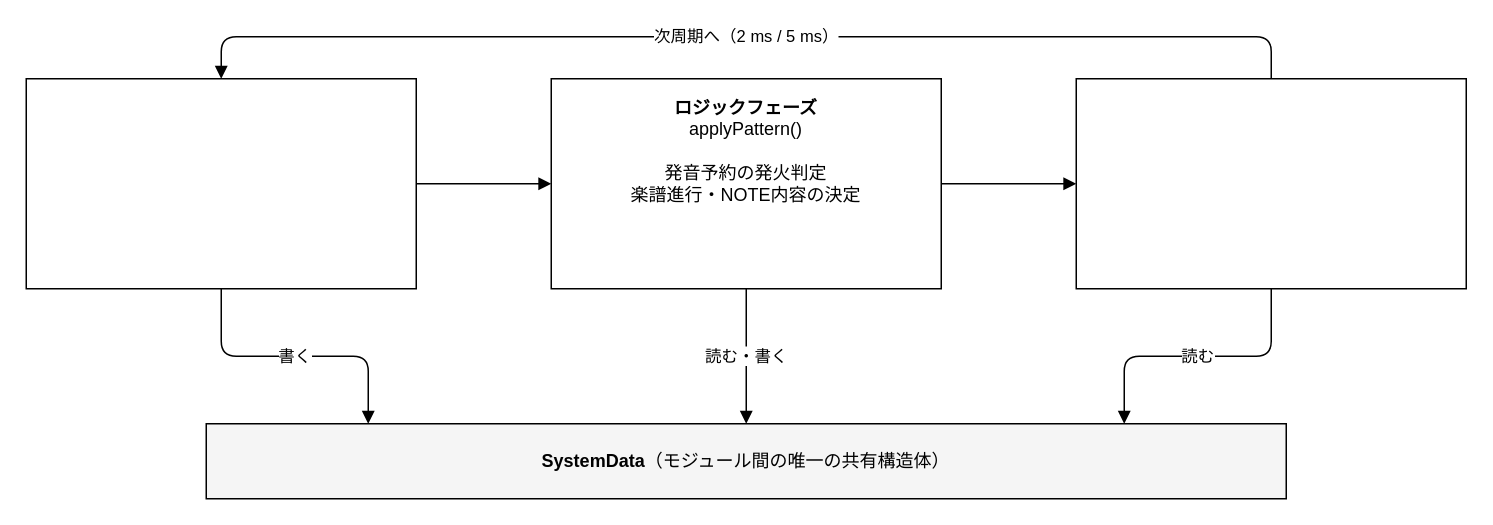
The diagram is 1493 pixels wide and 525 high, and some of its shapes have lost their labels. Here are the shapes that lost their labels. From the top down, the centre of each, then its label:
At point (220, 183): "入力フェーズ updateInput() OrcNetModule: UDP受信 OrcReceiverModule: パケット解釈・時計同期".
At point (1270, 183): "出力フェーズ updateOutput() NoteSenderModule: NOTE送出 StatusLedModule: LED表示".
